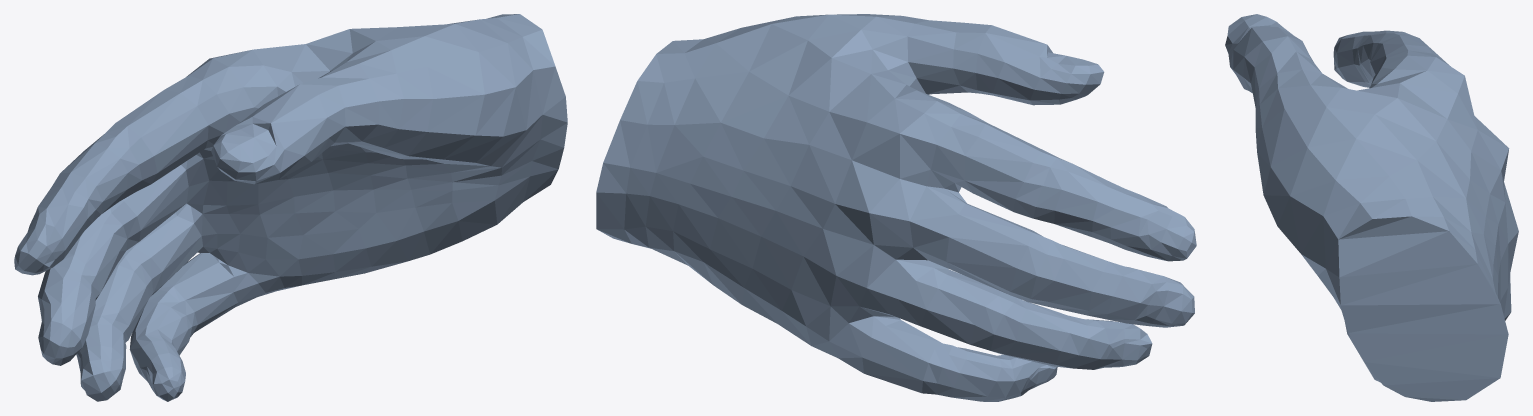
Rendered from frame_00012_0.obj.
3 renders of one model, left to right at view 1: azimuth 30°, elevation 25°; view 2: azimuth 150°, elevation 25°; view 3: azimuth 270°, elevation 25°, orthographic. The views are drawn at different scales.
Bounding box in the file's own units: 0.1782 × 0.0993 × 0.0834.
